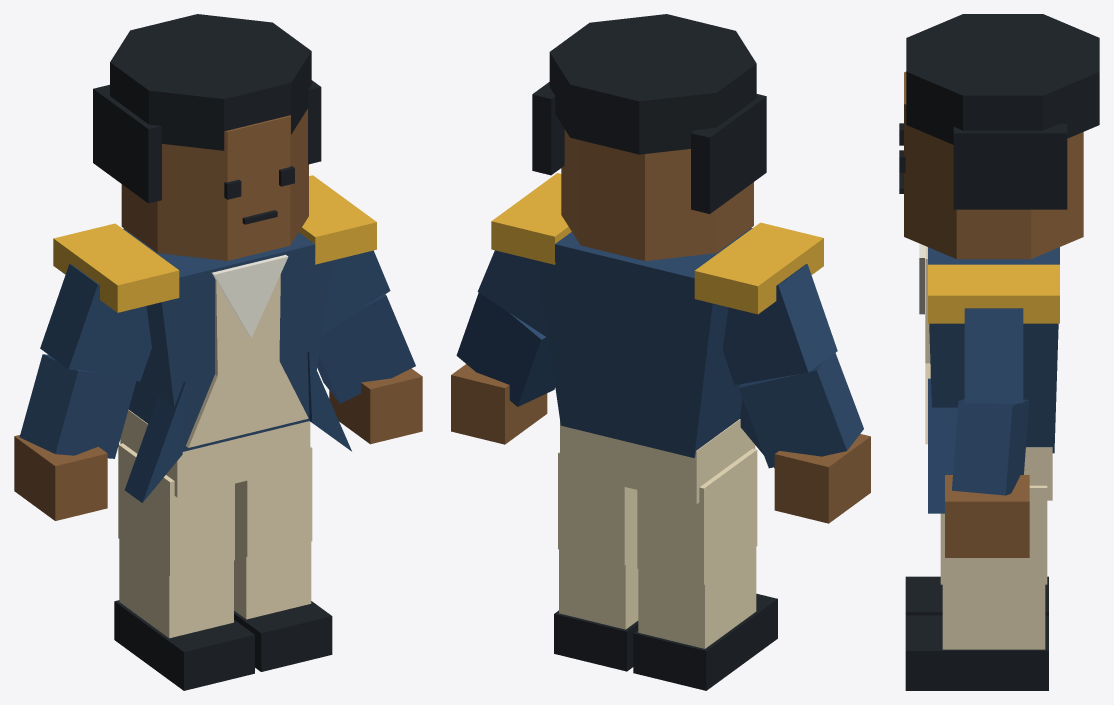
File: Washington.glb
3 views of the same model, side by side, from view 1: azimuth 30°, elevation 25°; view 2: azimuth 150°, elevation 25°; view 3: azimuth 270°, elevation 25° (orthographic). The views are drawn at different scales.
Parts seen in each view (by area): view 1: Body_M_CastV02_navy_2c4b6f, Body_M_CastV02_cream_f1e3bf, Body_M_CastV02_black_1d2228, Body_M_CastV02_darkSkin_90653c, Body_M_CastV02_gold_efba3c, Body_M_CastV02_white_f9f7ea; view 2: Body_M_CastV02_navy_2c4b6f, Body_M_CastV02_black_1d2228, Body_M_CastV02_cream_f1e3bf, Body_M_CastV02_darkSkin_90653c, Body_M_CastV02_gold_efba3c; view 3: Body_M_CastV02_black_1d2228, Body_M_CastV02_navy_2c4b6f, Body_M_CastV02_darkSkin_90653c, Body_M_CastV02_cream_f1e3bf, Body_M_CastV02_gold_efba3c, Body_M_CastV02_white_f9f7ea.
Boxes of the visible parts, left/top/right/bottom form: Body_M_CastV02_navy_2c4b6f: left=19, top=228, right=415, bottom=502; Body_M_CastV02_cream_f1e3bf: left=118, top=274, right=312, bottom=638; Body_M_CastV02_black_1d2228: left=93, top=14, right=332, bottom=690; Body_M_CastV02_darkSkin_90653c: left=14, top=109, right=422, bottom=520; Body_M_CastV02_gold_efba3c: left=53, top=175, right=376, bottom=312; Body_M_CastV02_white_f9f7ea: left=212, top=254, right=288, bottom=338; Body_M_CastV02_navy_2c4b6f: left=456, top=228, right=863, bottom=468; Body_M_CastV02_black_1d2228: left=532, top=14, right=777, bottom=690; Body_M_CastV02_cream_f1e3bf: left=558, top=419, right=757, bottom=648; Body_M_CastV02_darkSkin_90653c: left=451, top=129, right=870, bottom=523; Body_M_CastV02_gold_efba3c: left=491, top=173, right=823, bottom=314; Body_M_CastV02_black_1d2228: left=899, top=14, right=1099, bottom=690; Body_M_CastV02_navy_2c4b6f: left=928, top=247, right=1059, bottom=513; Body_M_CastV02_darkSkin_90653c: left=904, top=71, right=1083, bottom=557; Body_M_CastV02_cream_f1e3bf: left=925, top=246, right=1052, bottom=649; Body_M_CastV02_gold_efba3c: left=928, top=264, right=1059, bottom=323; Body_M_CastV02_white_f9f7ea: left=919, top=243, right=924, bottom=314.
Bounding box in the file's own units: 1.28 × 1.87 × 0.5682.
